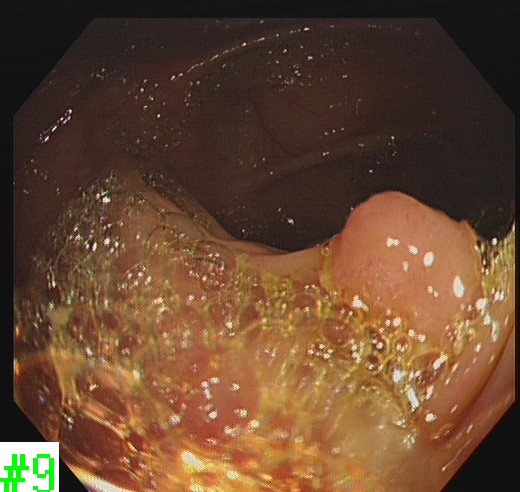adenoma: (333, 188, 486, 330)
